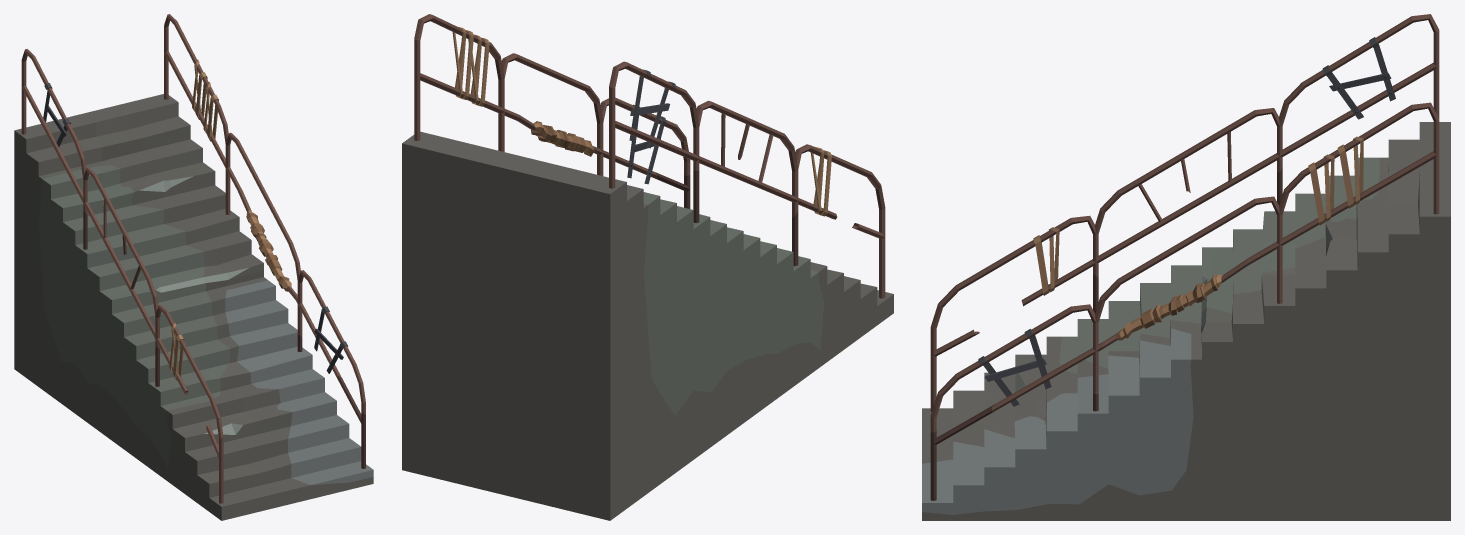
Rendered from SM_Stairs.fbx.
The picture shows the model from 3 angles, left to right: view 1: azimuth 30°, elevation 25°; view 2: azimuth 150°, elevation 25°; view 3: azimuth 270°, elevation 25°; orthographic projection. The views are drawn at different scales.
Parts seen in each view (by area): view 1: SM_Stairs, SM_Stairs_Railing_R, SM_Stairs_Railing_L; view 2: SM_Stairs, SM_Stairs_Railing_L, SM_Stairs_Railing_R; view 3: SM_Stairs, SM_Stairs_Railing_R, SM_Stairs_Railing_L.
Boxes of the visible parts, left/top/right/bottom form: SM_Stairs: left=14, top=94, right=373, bottom=520; SM_Stairs_Railing_R: left=164, top=14, right=365, bottom=468; SM_Stairs_Railing_L: left=21, top=49, right=223, bottom=503; SM_Stairs: left=402, top=131, right=893, bottom=520; SM_Stairs_Railing_L: left=609, top=61, right=885, bottom=298; SM_Stairs_Railing_R: left=414, top=14, right=690, bottom=208; SM_Stairs: left=922, top=122, right=1450, bottom=520; SM_Stairs_Railing_R: left=930, top=102, right=1439, bottom=500; SM_Stairs_Railing_L: left=930, top=14, right=1439, bottom=411.
Bounding box in the file's own units: 200 × 408 × 472.
